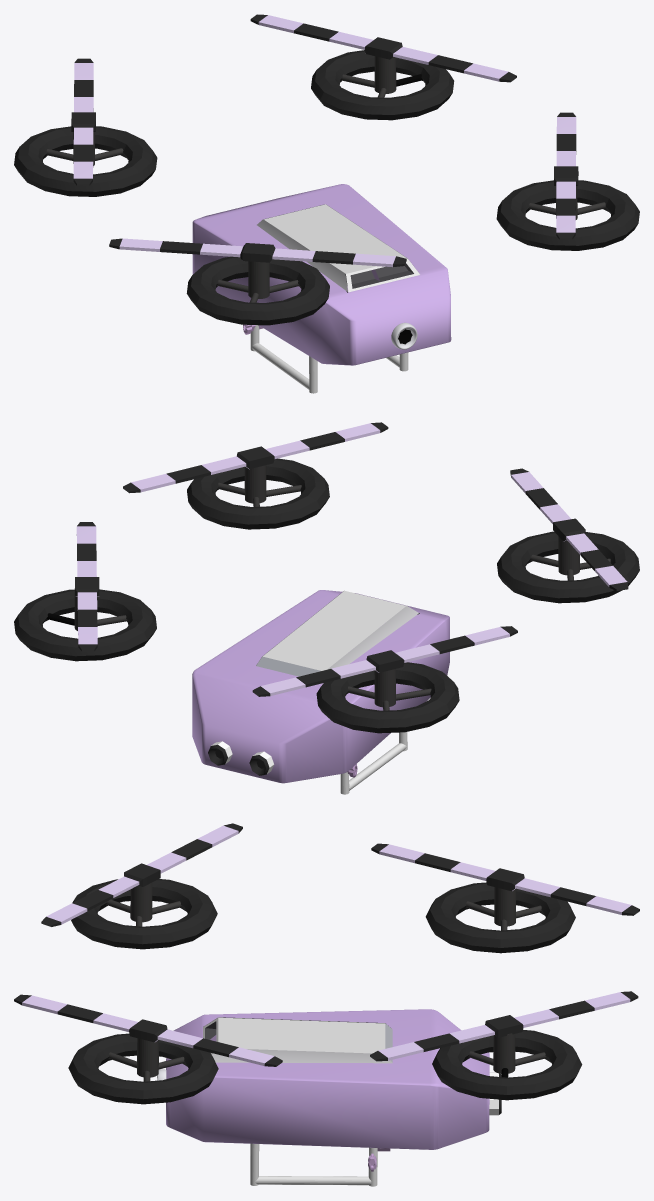
Rendered from drone1.fbx.
The picture shows the model from 3 angles, top to bottom: view 1: azimuth 30°, elevation 25°; view 2: azimuth 150°, elevation 25°; view 3: azimuth 270°, elevation 25°; orthographic projection.
Visible parts, largest first — view 1: square, 5.003, 7, 2, 3, ding, 5.002, 4, 1, 6, cy.002, tou; view 2: square, ding, 2, 3, 7, 5.003, 6, 1, 5.002, 4, cy.002, behind; view 3: square, 7, 3, 2, ding, 5.003, 1, 6, 4, 5.002, cy.001.
Part boxes in pixels (x1=…): square: x1=192, y1=184, x2=451, y2=365; 5.003: x1=186, y1=256, x2=329, y2=325; 7: x1=311, y1=50, x2=454, y2=120; 2: x1=496, y1=180, x2=639, y2=250; 3: x1=14, y1=126, x2=157, y2=196; ding: x1=257, y1=204, x2=419, y2=292; 5.002: x1=109, y1=238, x2=406, y2=267; 4: x1=250, y1=14, x2=516, y2=82; 1: x1=554, y1=112, x2=578, y2=239; 6: x1=71, y1=58, x2=95, y2=185; cy.002: x1=250, y1=325, x2=317, y2=393; tou: x1=391, y1=322, x2=417, y2=349; square: x1=192, y1=590, x2=449, y2=783; ding: x1=256, y1=590, x2=419, y2=676; 2: x1=187, y1=458, x2=329, y2=529; 3: x1=316, y1=662, x2=459, y2=733; 7: x1=14, y1=588, x2=156, y2=661; 5.003: x1=497, y1=531, x2=639, y2=603; 6: x1=252, y1=626, x2=517, y2=696; 1: x1=123, y1=422, x2=388, y2=493; 5.002: x1=510, y1=468, x2=628, y2=591; 4: x1=75, y1=522, x2=99, y2=651; cy.002: x1=340, y1=732, x2=407, y2=794; behind: x1=208, y1=741, x2=274, y2=775; square: x1=166, y1=1009, x2=489, y2=1149; 7: x1=432, y1=1029, x2=582, y2=1100; 3: x1=425, y1=882, x2=575, y2=953; 2: x1=68, y1=1033, x2=218, y2=1104; ding: x1=203, y1=1017, x2=392, y2=1063; 5.003: x1=71, y1=879, x2=217, y2=949; 1: x1=14, y1=994, x2=282, y2=1066; 6: x1=371, y1=843, x2=639, y2=915; 4: x1=370, y1=991, x2=638, y2=1061; 5.002: x1=41, y1=823, x2=242, y2=926; cy.001: x1=250, y1=1143, x2=377, y2=1186.
Bounding box in the file's own units: 303 × 126 × 334.
